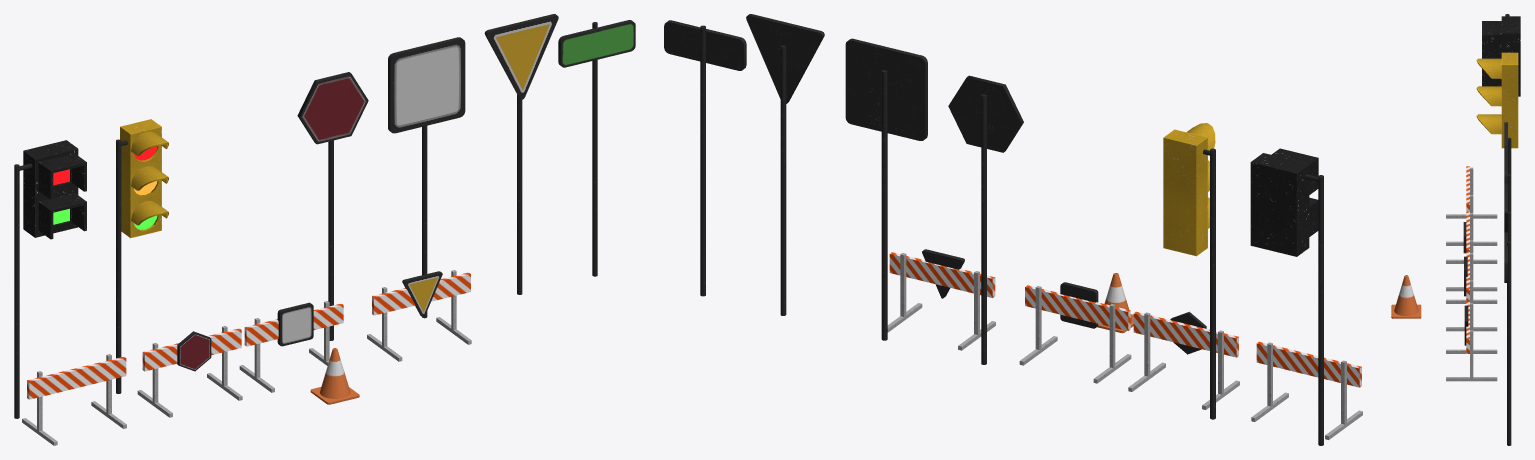
The model's file is StreetSigns.gltf.
The picture shows the model from 3 angles, left to right: view 1: azimuth 30°, elevation 25°; view 2: azimuth 150°, elevation 25°; view 3: azimuth 270°, elevation 25°; orthographic projection. The views are drawn at different scales.
Visible parts, largest first — view 1: StreetProps_PoleSign_2, StreetProps_PedestrianLight, StreetProps_TrafficLight, StreetProps_PoleSign_1, StreetProps_PoleSign_3, StreetProps_PoleSign_4, StreetProps_RoadBlock_3, StreetProps_RoadBlock_4, StreetProps_RoadBlock_2, StreetProps_RoadBlock_1, StreetProps_TrafficCone; view 2: StreetProps_PoleSign_2, StreetProps_PedestrianLight, StreetProps_TrafficLight, StreetProps_PoleSign_1, StreetProps_PoleSign_3, StreetProps_PoleSign_4, StreetProps_RoadBlock_3, StreetProps_RoadBlock_4, StreetProps_RoadBlock_2, StreetProps_RoadBlock_1, StreetProps_TrafficCone; view 3: StreetProps_TrafficLight, StreetProps_PedestrianLight, StreetProps_PoleSign_4, StreetProps_RoadBlock_4, StreetProps_RoadBlock_3, StreetProps_RoadBlock_2, StreetProps_TrafficCone, StreetProps_RoadBlock_1, StreetProps_PoleSign_3, StreetProps_PoleSign_2, StreetProps_PoleSign_1.
Boxes of the visible parts, x1,y1,x2,y2 form: StreetProps_PoleSign_2: (388,37,465,318); StreetProps_PedestrianLight: (14,140,86,418); StreetProps_TrafficLight: (116,119,168,393); StreetProps_PoleSign_1: (297,72,368,340); StreetProps_PoleSign_3: (484,14,558,294); StreetProps_PoleSign_4: (558,20,635,276); StreetProps_RoadBlock_3: (239,301,344,392); StreetProps_RoadBlock_4: (367,270,471,361); StreetProps_RoadBlock_2: (137,326,242,417); StreetProps_RoadBlock_1: (22,354,126,445); StreetProps_TrafficCone: (310,348,359,404); StreetProps_PoleSign_2: (845,38,927,340); StreetProps_PedestrianLight: (1250,148,1323,445); StreetProps_TrafficLight: (1163,123,1215,419); StreetProps_PoleSign_1: (948,75,1023,364); StreetProps_PoleSign_3: (746,14,824,315); StreetProps_PoleSign_4: (664,20,746,296); StreetProps_RoadBlock_3: (1019,282,1131,383); StreetProps_RoadBlock_4: (887,249,995,350); StreetProps_RoadBlock_2: (1128,311,1239,409); StreetProps_RoadBlock_1: (1251,341,1362,439); StreetProps_TrafficCone: (1097,273,1133,333); StreetProps_TrafficLight: (1476,52,1518,148); StreetProps_PedestrianLight: (1482,14,1520,96); StreetProps_PoleSign_4: (1504,232,1511,445); StreetProps_RoadBlock_4: (1446,301,1497,381); StreetProps_RoadBlock_3: (1446,251,1497,331); StreetProps_RoadBlock_2: (1446,211,1497,291); StreetProps_TrafficCone: (1391,275,1421,318); StreetProps_RoadBlock_1: (1446,166,1497,245); StreetProps_PoleSign_3: (1504,183,1511,241); StreetProps_PoleSign_2: (1504,146,1511,211); StreetProps_PoleSign_1: (1504,122,1511,174).
Bounding box in the file's own units: 11.76 × 4.86 × 2.59.
Materials: 1 (1 with a texture image).
